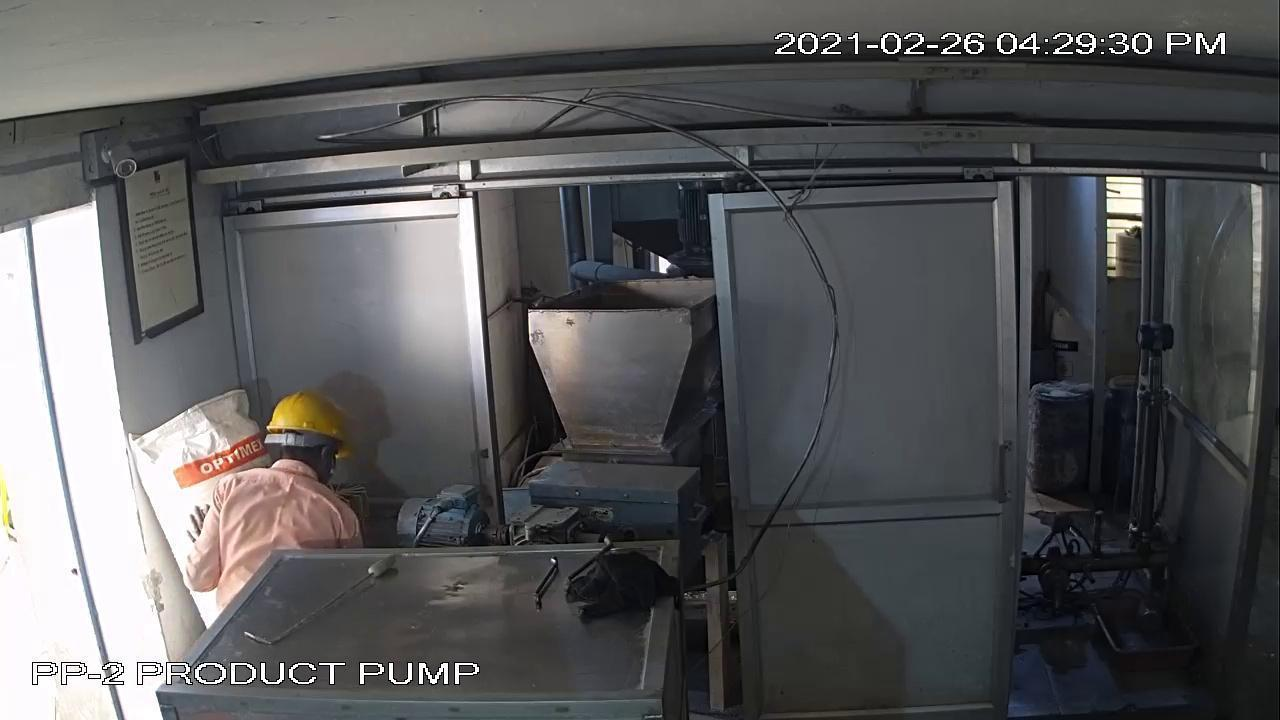helmet: (243, 373, 372, 484)
